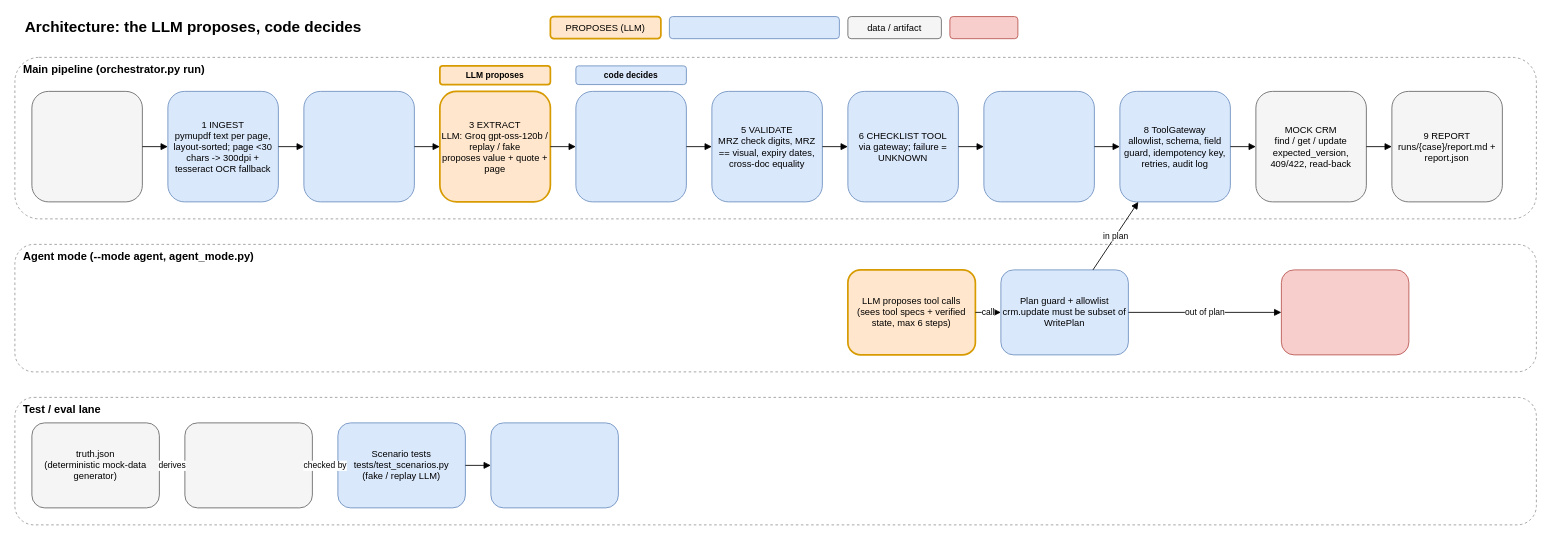
This 1551x540 diagram has some shape labels left out. Each missing label, with the centre of its shape:
2 CLASSIFY content keywords (filename breaks ties) + injection scan (regex flag): [358,146]
4 VERIFY quote on page AND value derivable from quote; fail = value dropped: [630,146]
7 POLICY policy.yaml, first match wins -> WritePlan: [1038,146]
DECIDES (deterministic code): [754,27]
Eval visa_agent cli eval (--live: Groq) scores fields vs truth.json: [554,465]
expected.json goldens derived from truth.json: [248,465]
Packet folder (PDFs, png/jpg): [86,146]
rejected: [983,27]
REJECTED out-of-plan call: audit-logged, fed back as observation: [1345,312]
